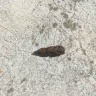Dog: (36, 45, 69, 60)
